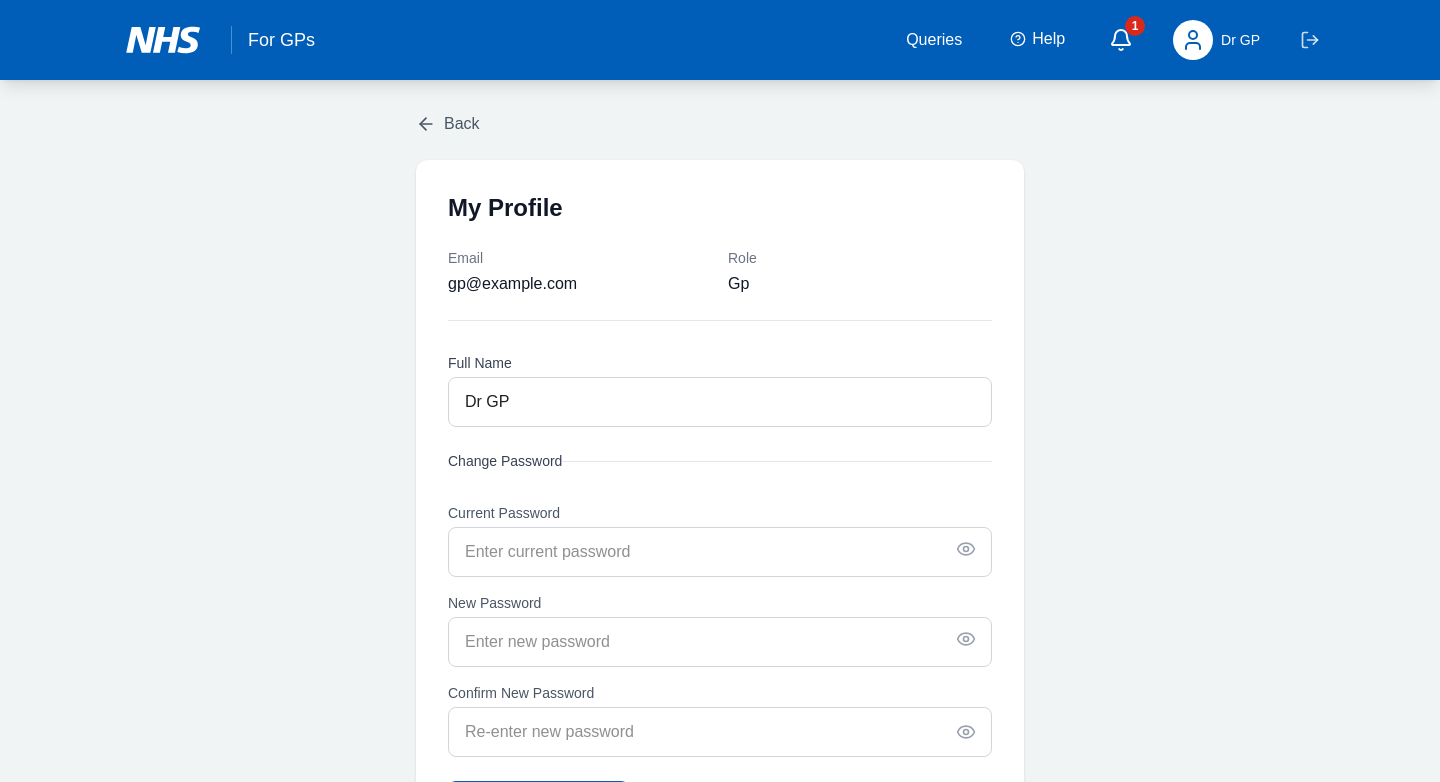
Scenario: ProfilePage › validates missing new password and minimum password length
In the password field labelled "Current Password": [720, 552] box 448,527 -> 992,577, type "oldpass"
(page scrolled)
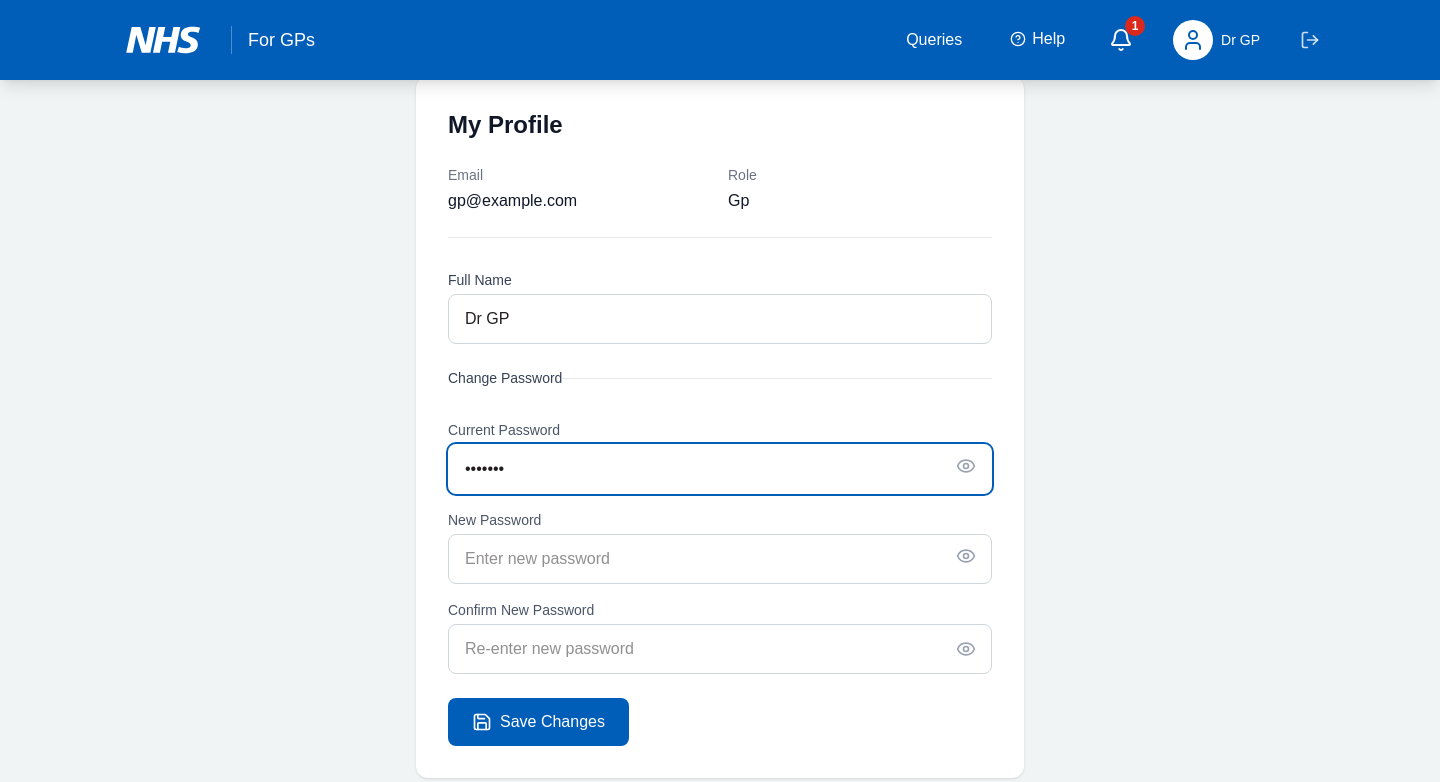
Click the button "Save Changes": [538, 722] box 448,698 -> 629,746
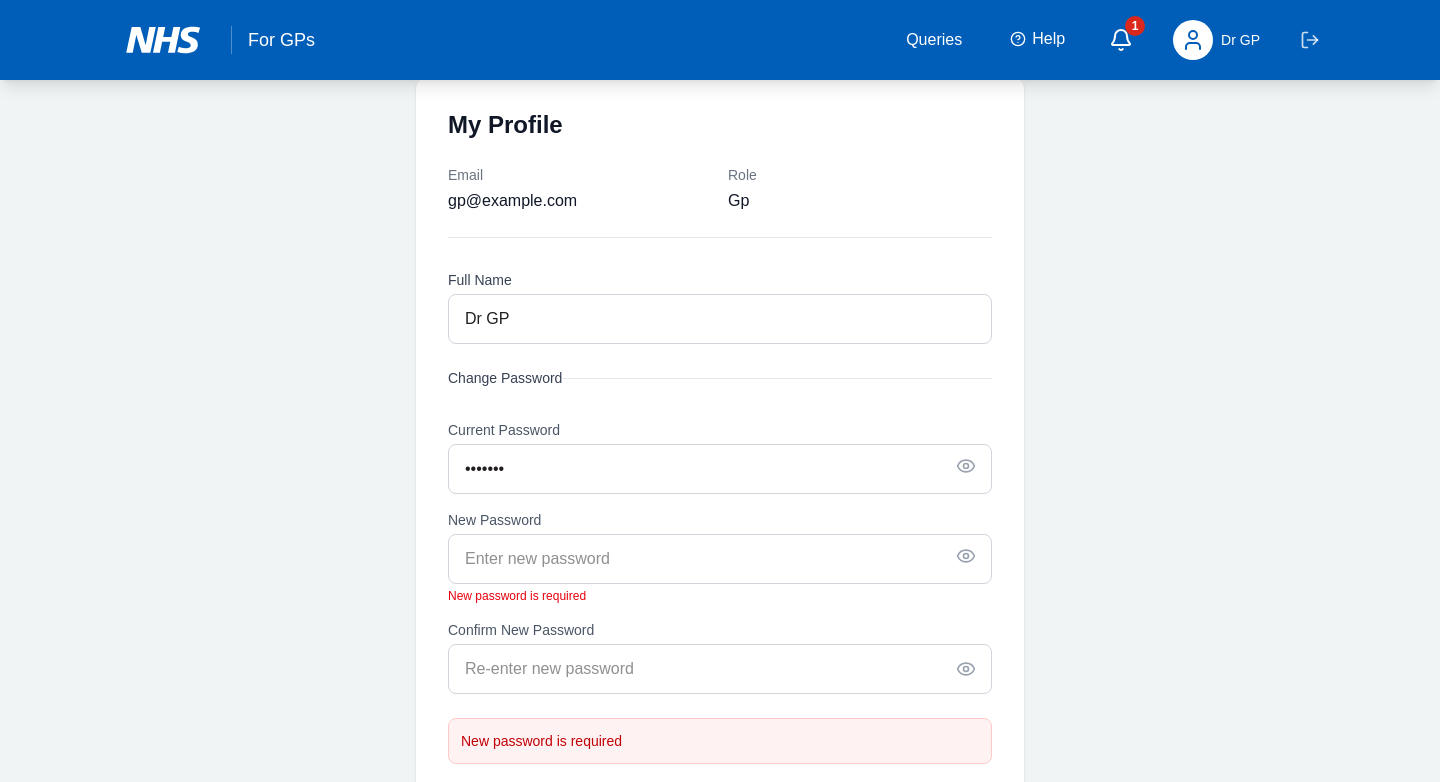
Expected: the text "New password is required" is shown, 448,589 -> 586,603
In the password field labelled "New Password": [720, 559] box 448,534 -> 992,584, type "short"
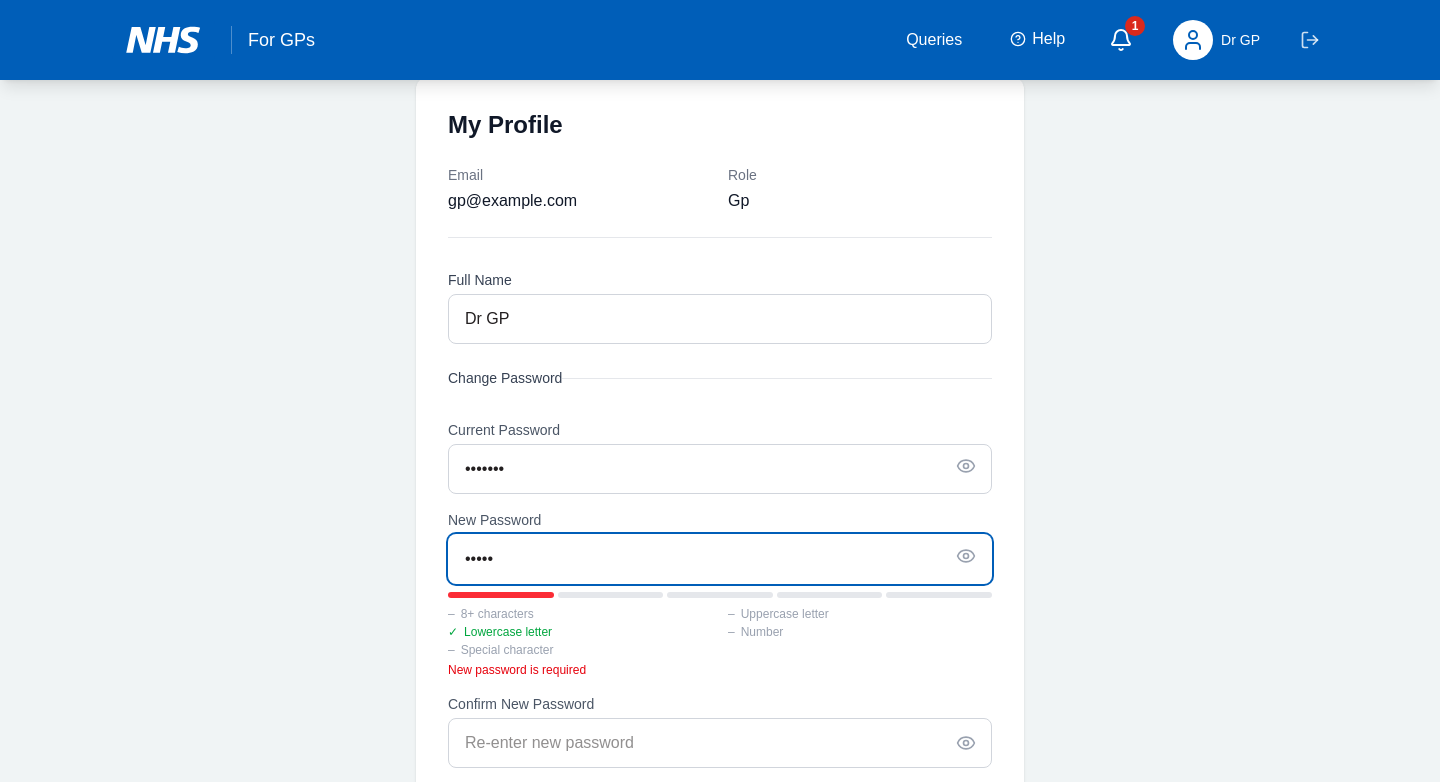
In the password field labelled "Confirm New Password": [720, 743] box 448,718 -> 992,768, type "short"
(page scrolled)
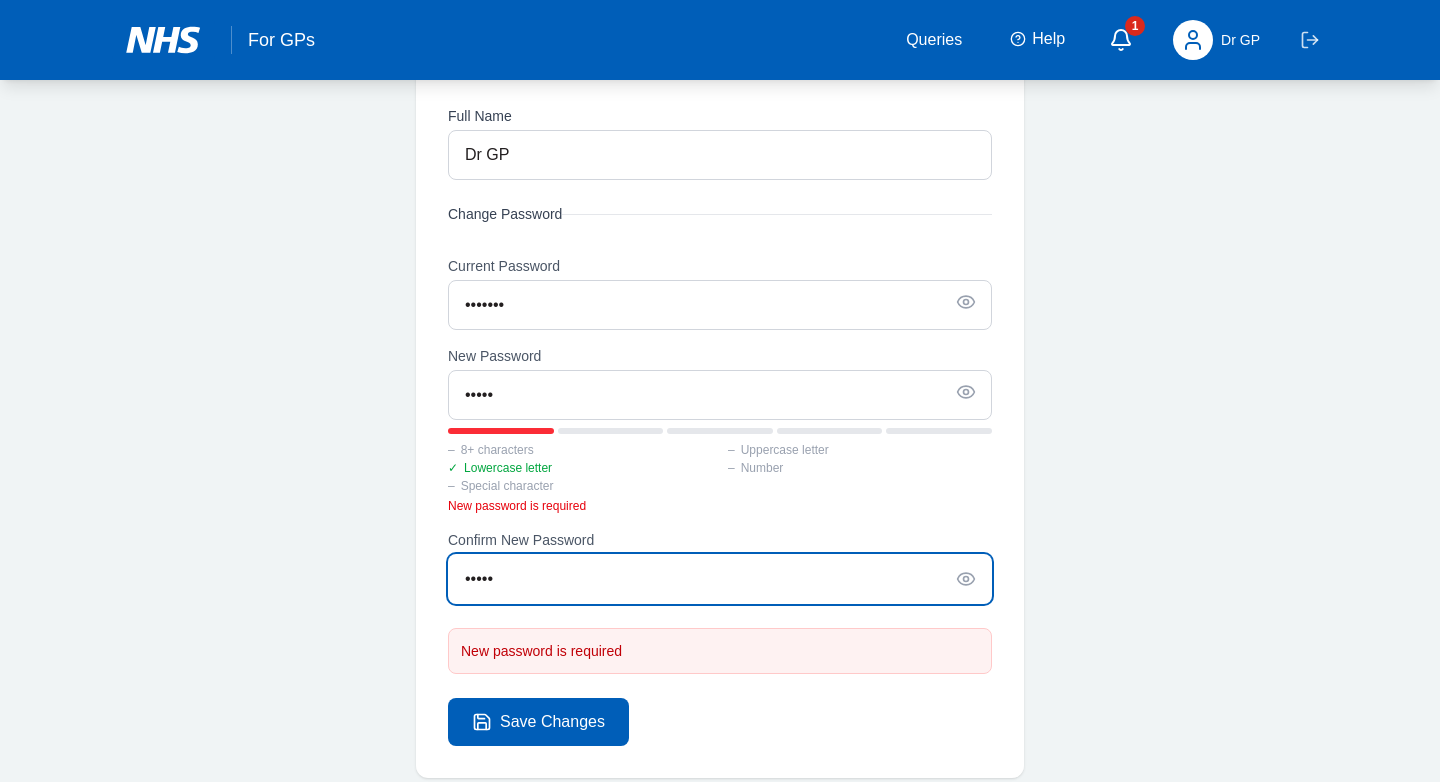
Click the button "Save Changes": [538, 722] box 448,698 -> 629,746
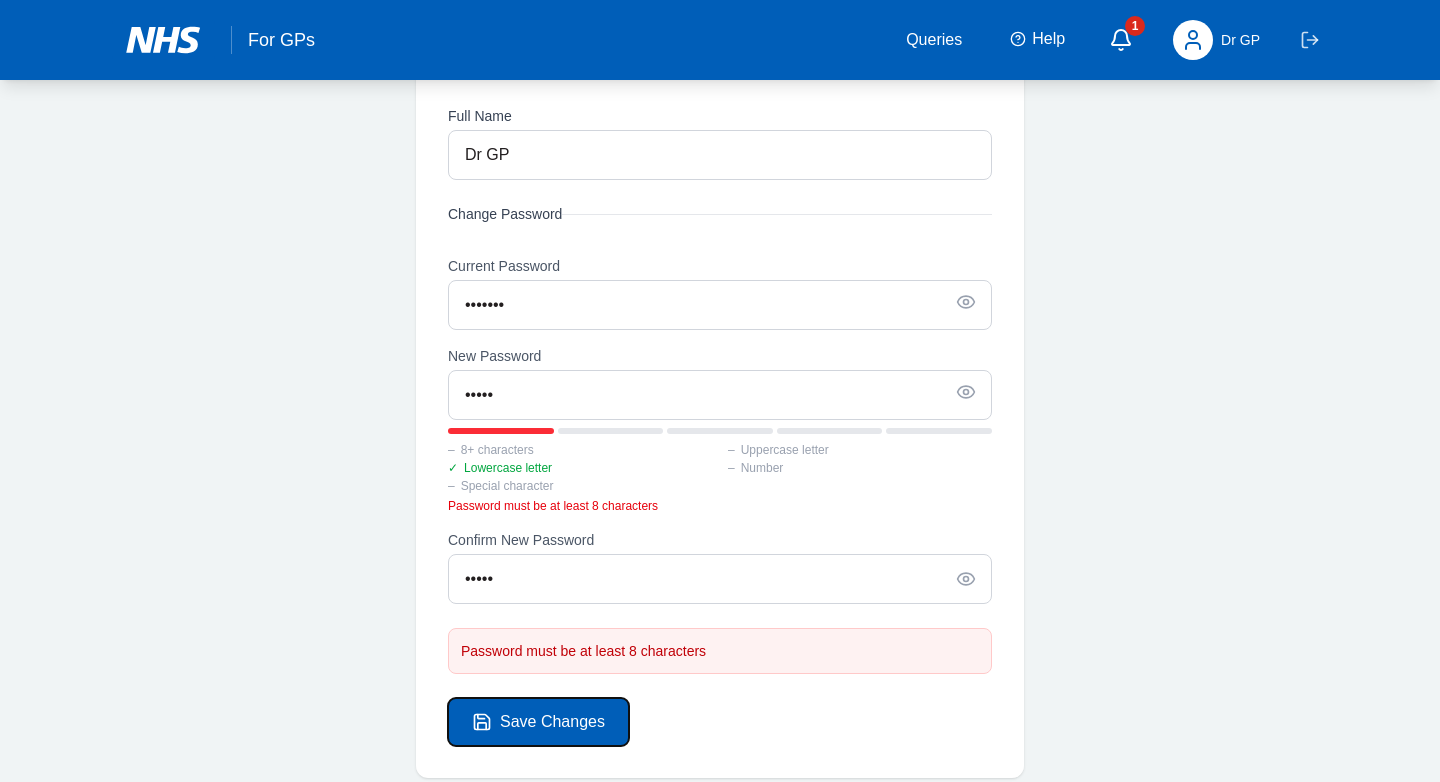
Expected: the text "Password must be at least 8 characters" is shown, 448,499 -> 658,513
